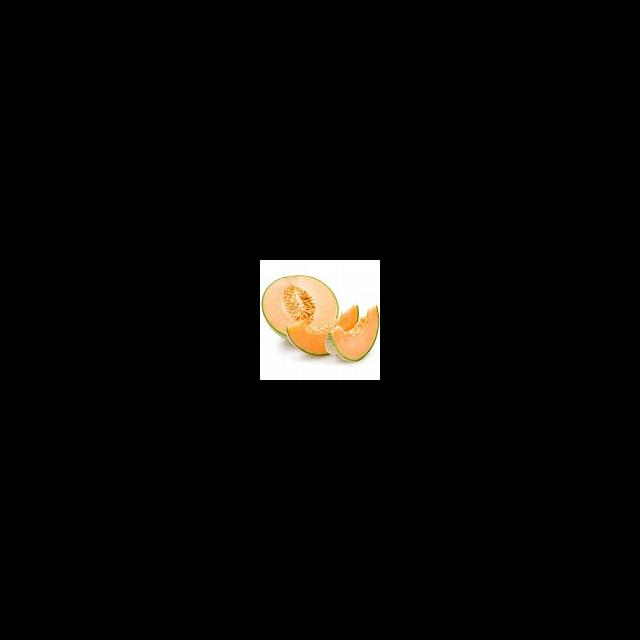Hami Melon: (262, 275, 339, 340), (286, 305, 359, 356), (326, 305, 379, 361)
